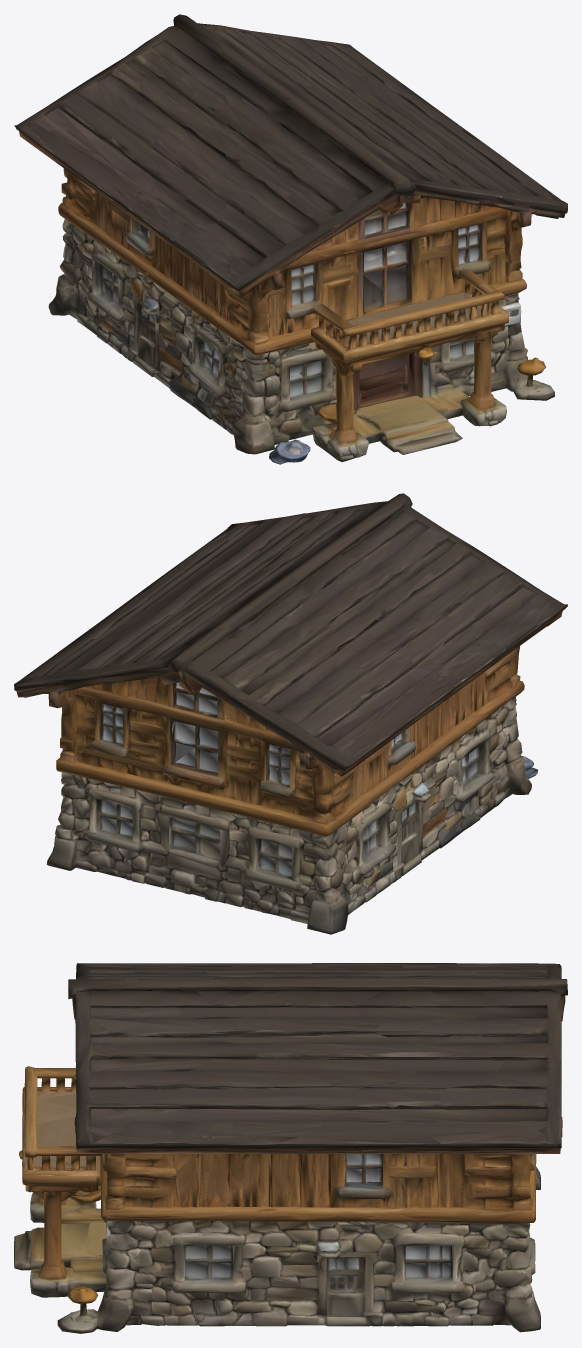
Rendered from bld_obs_annex.fbx.
3 renders of one model, top to bottom at view 1: azimuth 30°, elevation 25°; view 2: azimuth 150°, elevation 25°; view 3: azimuth 270°, elevation 25°, orthographic. The views are drawn at different scales.
Parts seen in each view (by area): view 1: bld_obs_annex_LOD0; view 2: bld_obs_annex_LOD0; view 3: bld_obs_annex_LOD0.
Part boxes in pixels (<box>): bld_obs_annex_LOD0: <box>14,14,567,464</box>; bld_obs_annex_LOD0: <box>14,493,567,934</box>; bld_obs_annex_LOD0: <box>14,963,567,1333</box>.
Size of what is drawn, in the model's own units: 0.754 by 0.538 by 0.9813.
